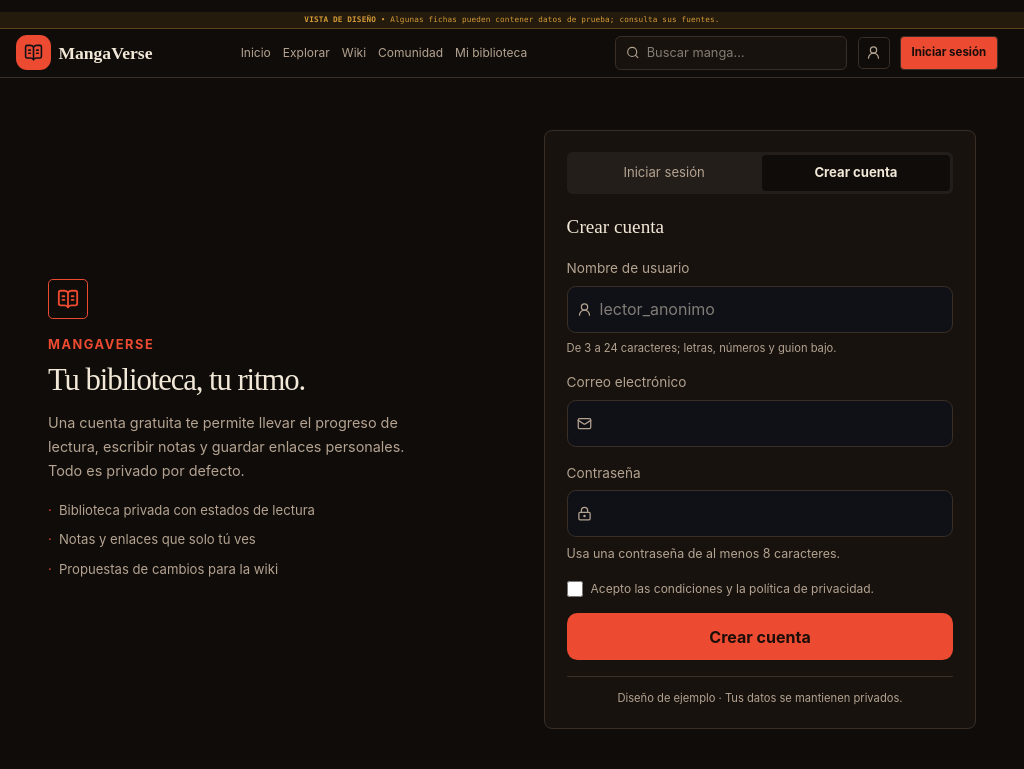
Test: AccountPage › asks new users to confirm their email when sign-up has no session
Type "Lector_anonimo" into the field labelled "Nombre de usuario" at (760, 309), box [567, 286, 953, 332]
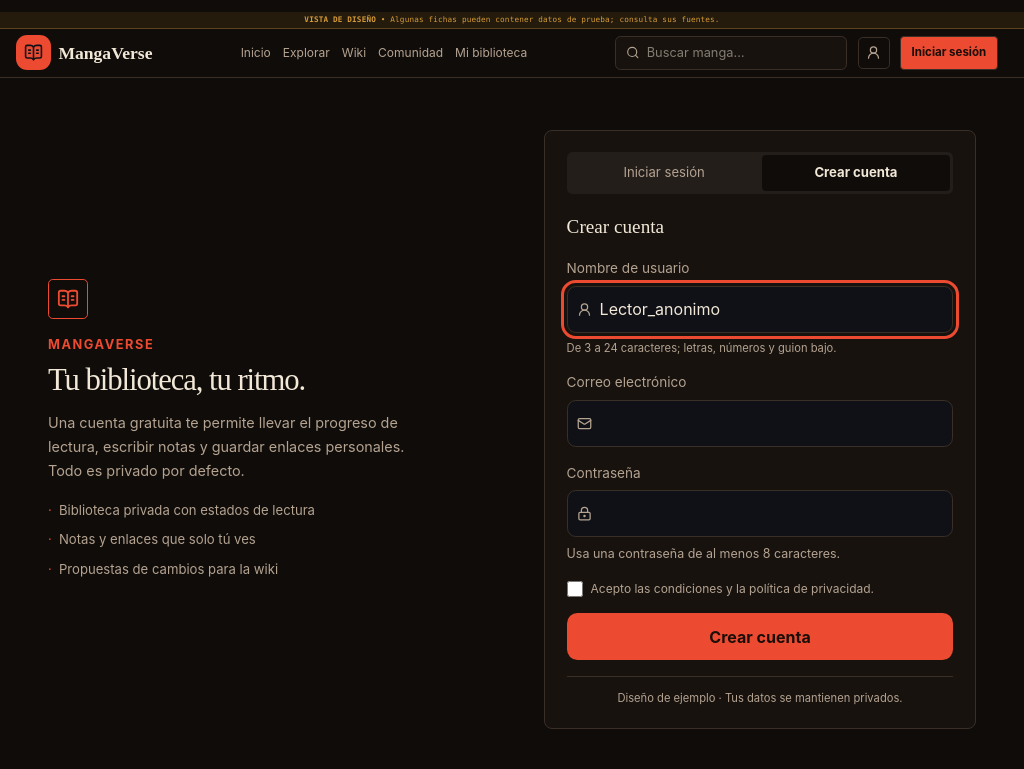
Type "new@example.com" into the field labelled "Correo electrónico" at (760, 424), box [567, 400, 953, 447]
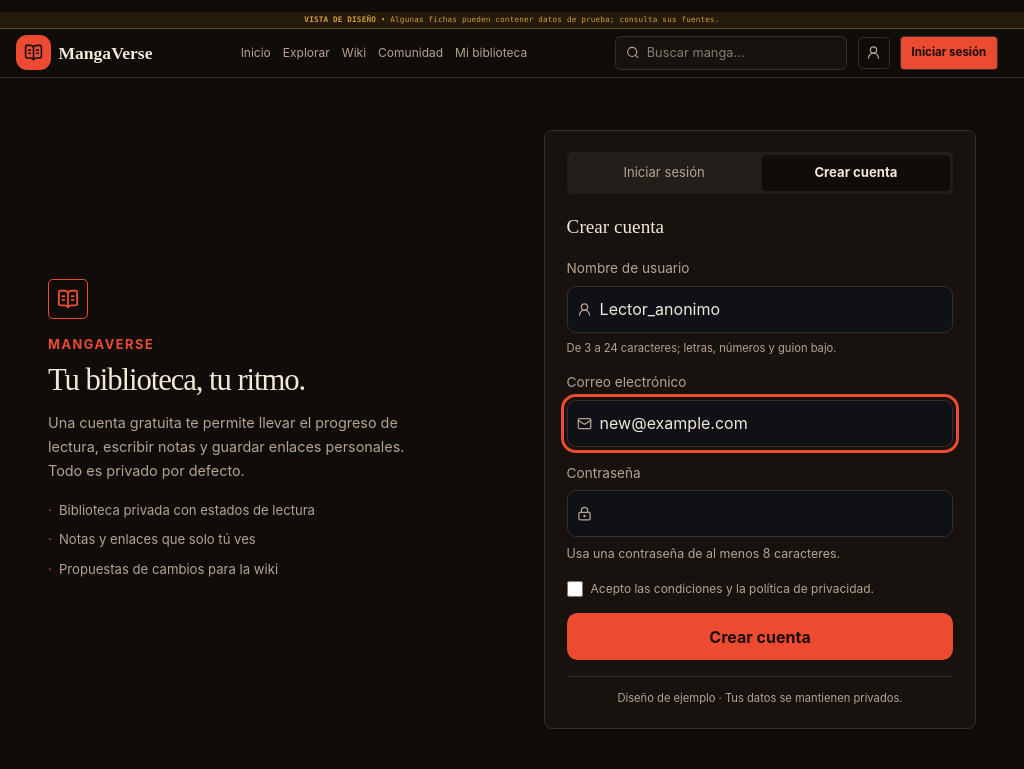
Type "secure-password" into the password field labelled "Contraseña" at (760, 514), box [567, 490, 953, 537]
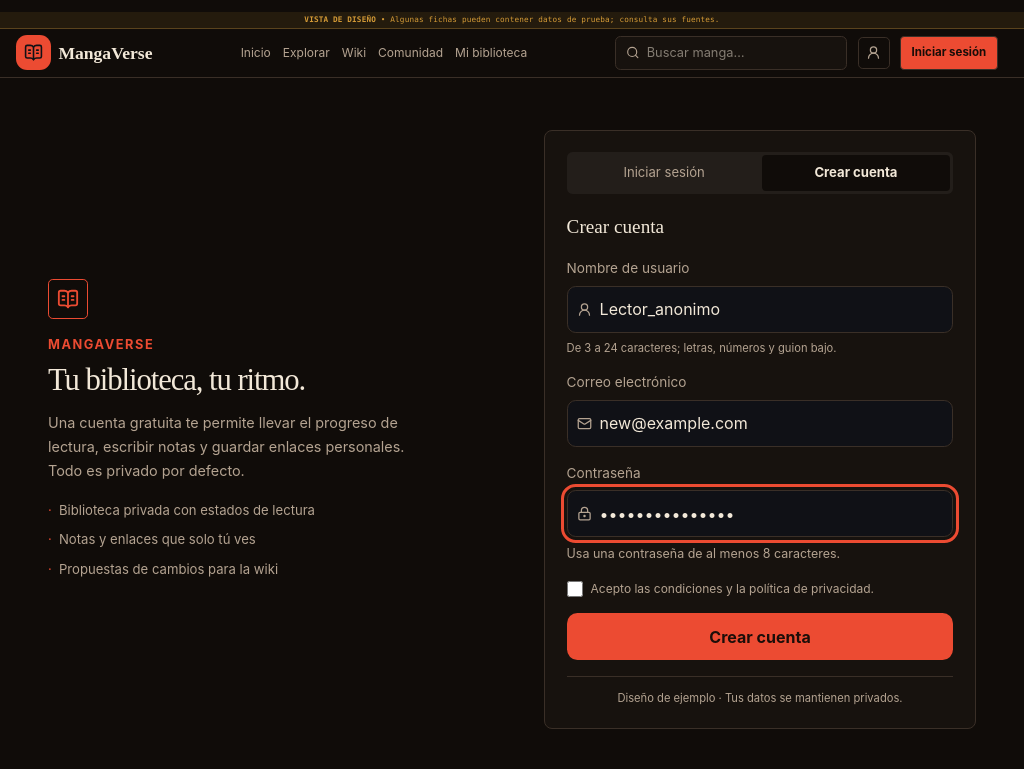
Click the checkbox labelled "Acepto las condiciones y la política de privacidad." at (575, 589), box [567, 581, 583, 597]
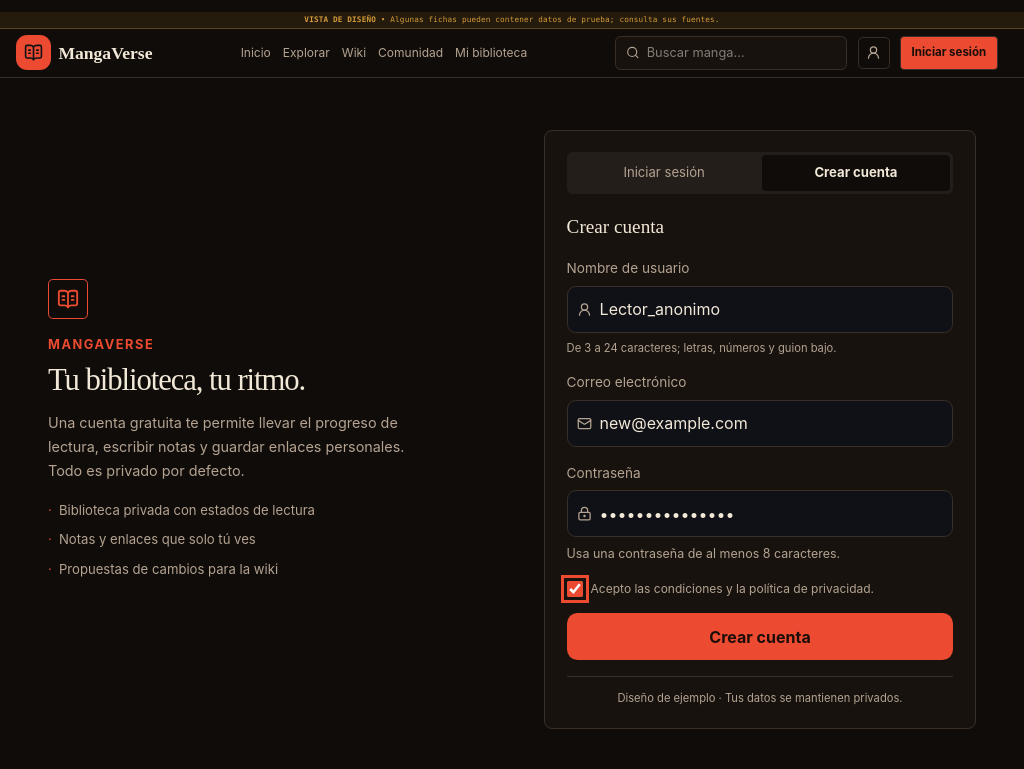
Click the button "Crear cuenta" at (760, 637), box [567, 613, 953, 660]
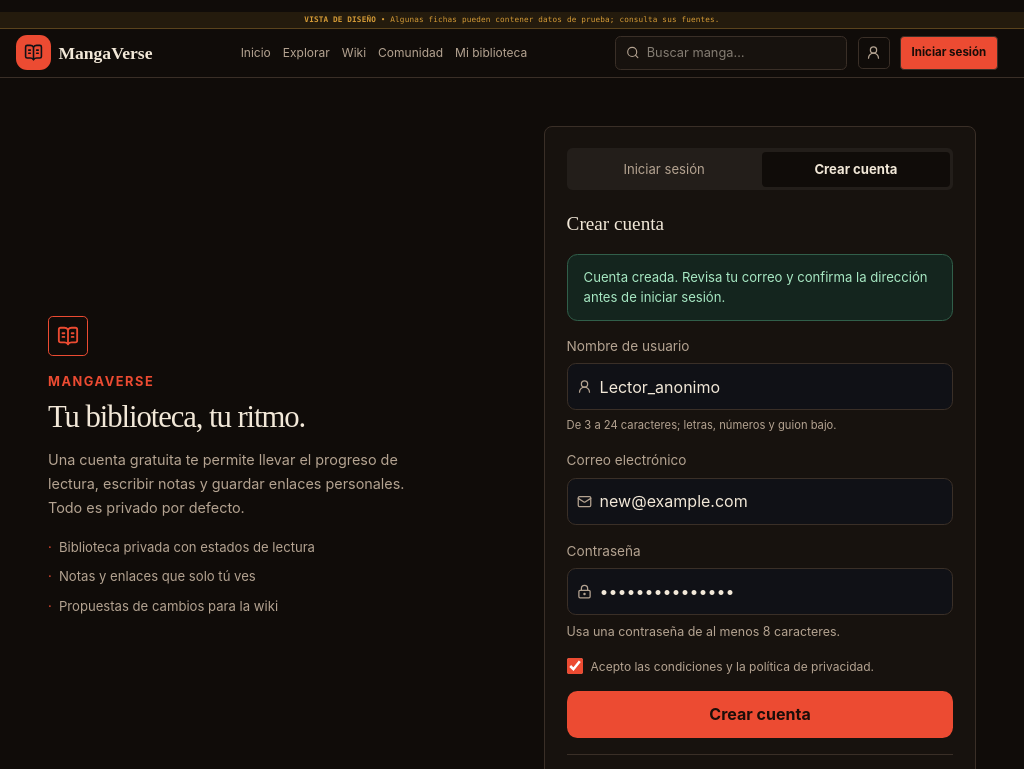
Expected: the message shows "Revisa tu correo", [584, 269, 928, 305]
